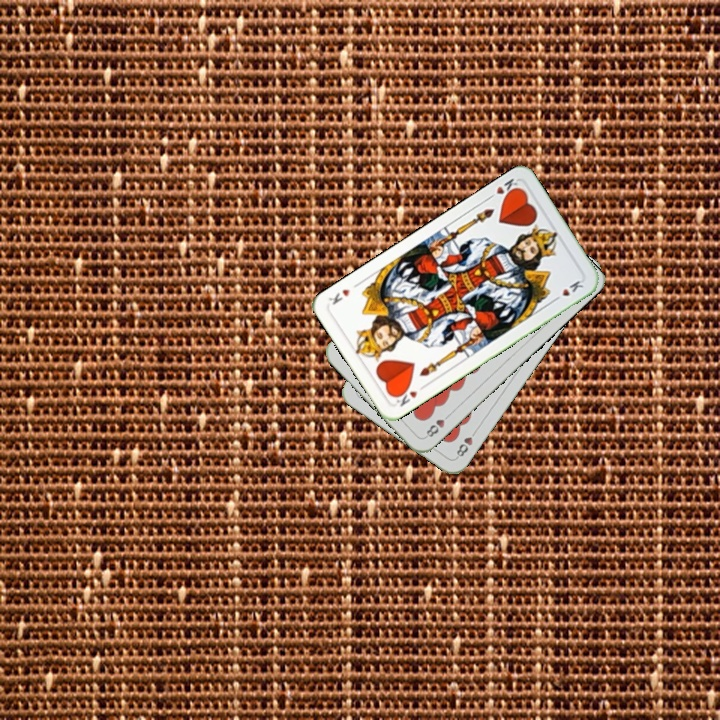H8: (421, 409, 454, 440), (452, 425, 480, 461)
HK: (483, 174, 523, 202), (391, 381, 428, 409)
